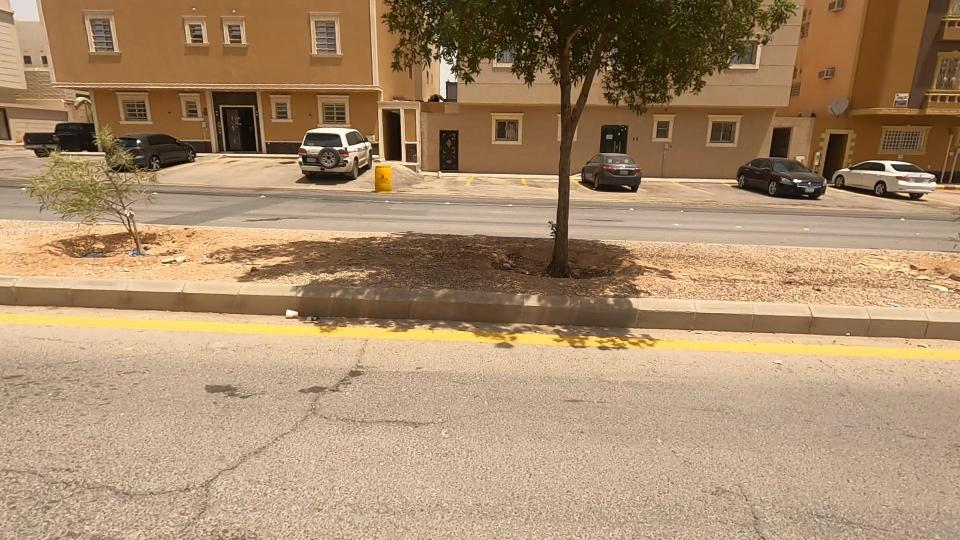GARBAGE: (45, 224, 177, 284), (138, 231, 212, 285), (252, 295, 332, 337)
